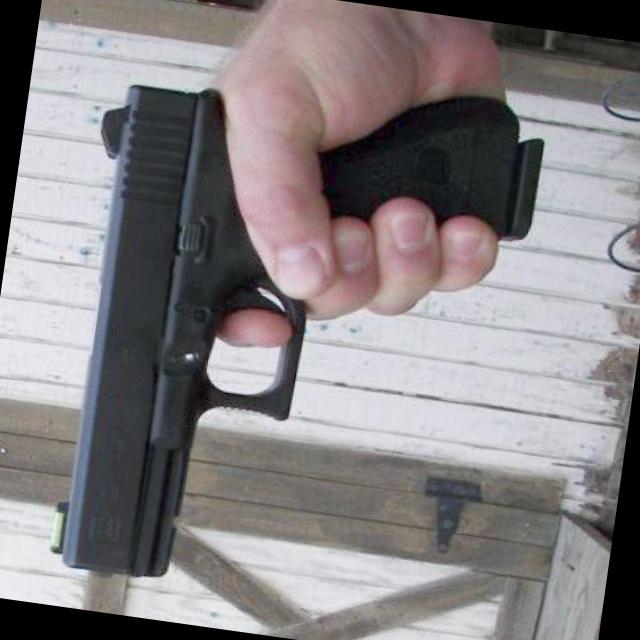handgun: (39, 44, 550, 632)
